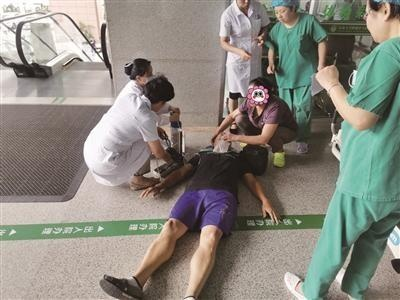falling: (85, 135, 283, 299)
